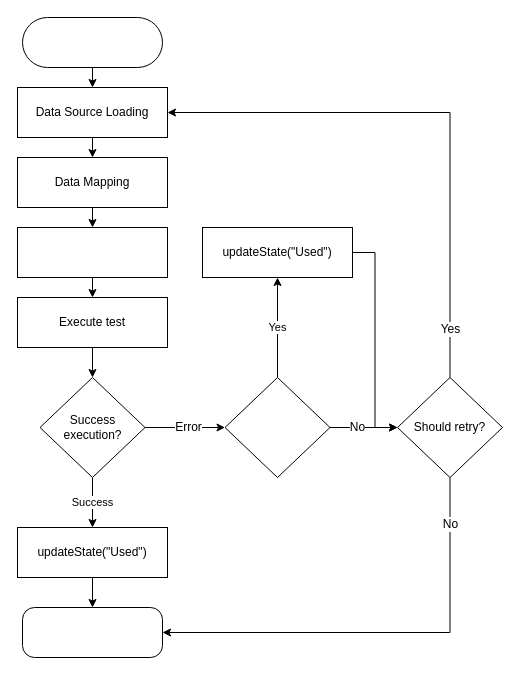
Some shapes in this 520 by 675 pixel diagram are drawn without their labels. The shapes that lost their labels are listed below. From the top down, each one's box as (x1, y1, x2, y2) in pixels, then its label:
(22, 16, 162, 68): Start Carrier Test
(16, 226, 168, 278): updateState("In Use")
(224, 376, 330, 478): Mark data as used?
(22, 606, 162, 658): Finish
